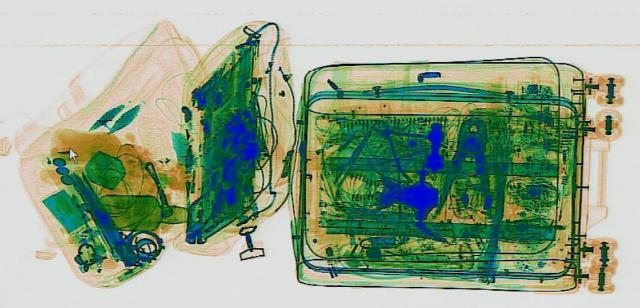Pliers: (345, 114, 471, 182), (434, 117, 500, 213)
